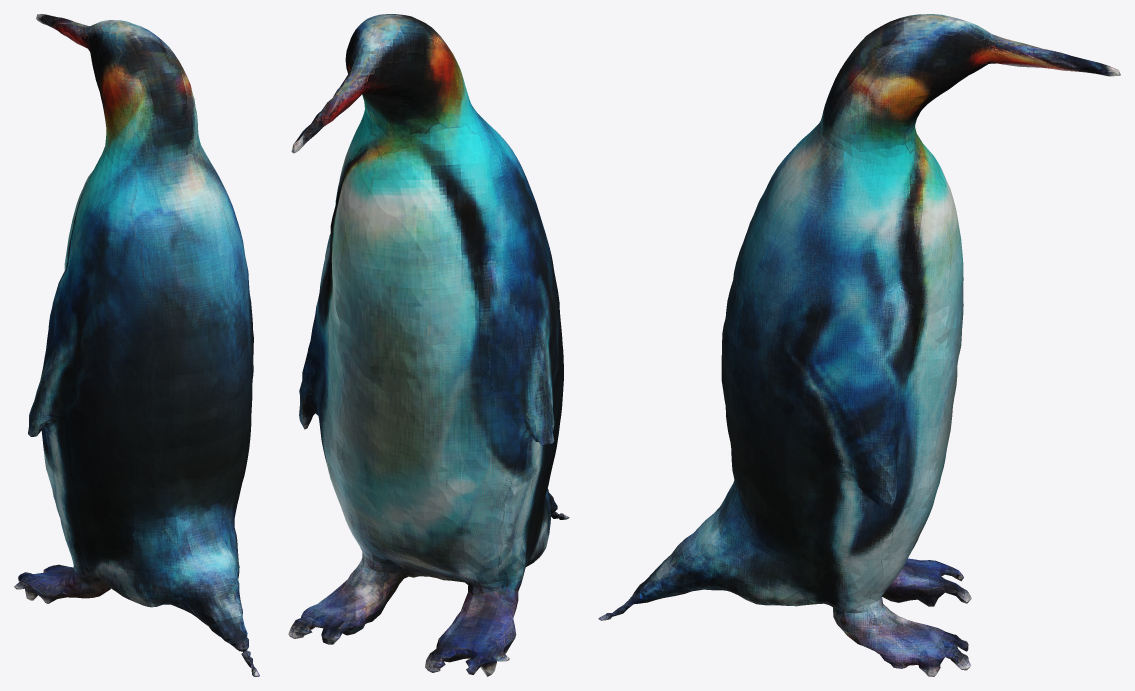
The model's file is a penguin.glb.
3 views of the same model, side by side, from view 1: azimuth 30°, elevation 25°; view 2: azimuth 150°, elevation 25°; view 3: azimuth 270°, elevation 25° (orthographic). The views are drawn at different scales.
Bounding box in the file's own units: 0.4026 × 0.9893 × 0.7515.
1 material, 1 textured.
